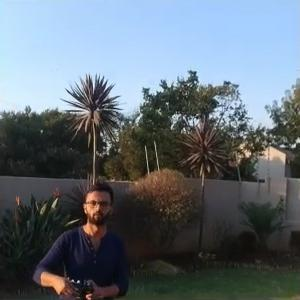follow: (29, 172, 133, 299)
